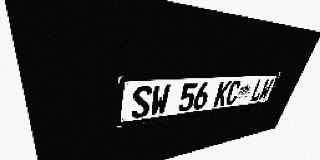5: (178, 83, 198, 112)
6: (192, 82, 212, 110)
C: (224, 80, 242, 105)
K: (213, 81, 232, 107)
L: (249, 79, 266, 102)
S: (131, 85, 153, 119)
W: (150, 84, 171, 116), (258, 78, 274, 100)
